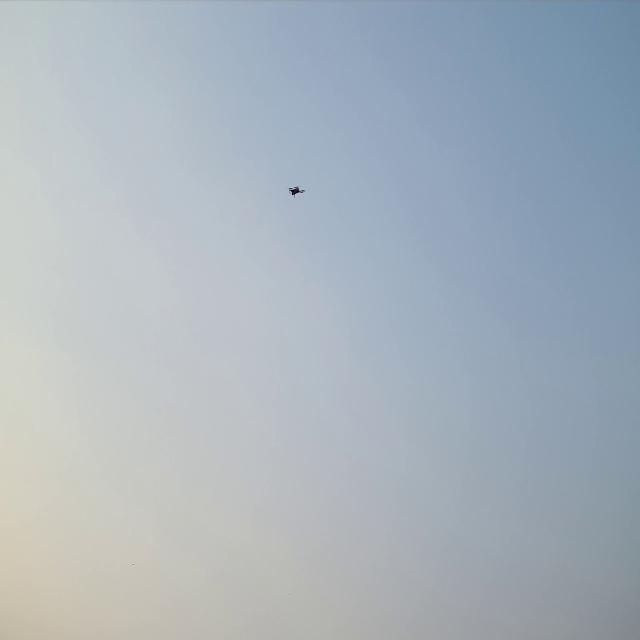UAV: (284, 178, 306, 200)
